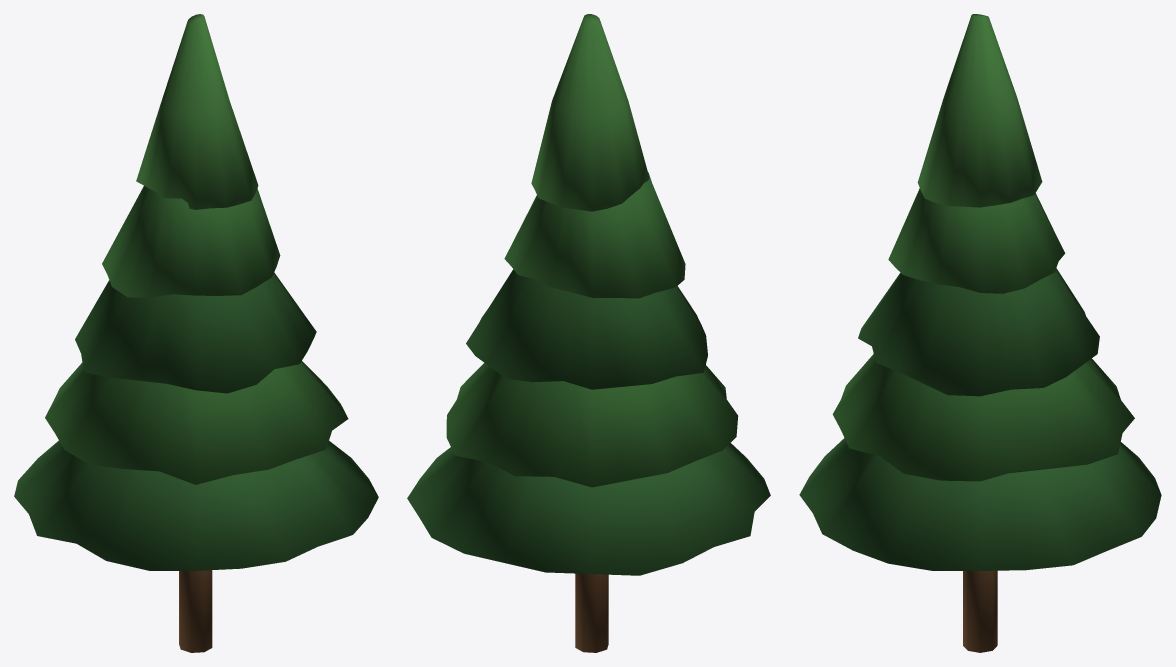
File: cam.glb
3 views of the same model, side by side, from view 1: azimuth 30°, elevation 25°; view 2: azimuth 150°, elevation 25°; view 3: azimuth 270°, elevation 25° (orthographic).
Visible parts, largest first — view 1: cam; view 2: cam; view 3: cam.
Part boxes in pixels (x1,y1,x2,y2): cam: (14, 14, 378, 652); cam: (407, 14, 770, 652); cam: (799, 14, 1161, 652).
Size of the model in its own units: 0.8377 by 1.6 by 0.8324.
